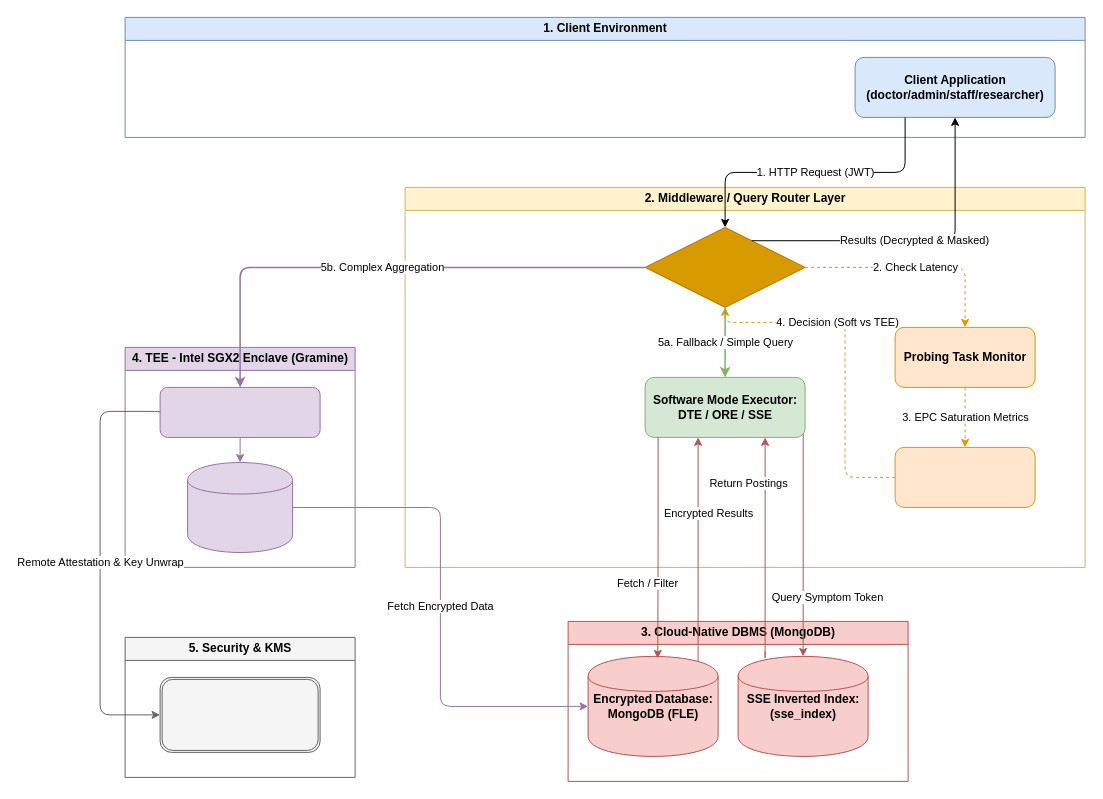
Image size: 1103x799. Some labels were removed from this diagram. Here are the shapes that lost their labels. From the top down, the centre of each, then its label:
At point (724, 266): "Tiered Query Router".
At point (239, 411): "Gramine LibOS".
At point (964, 476): "Cost Model Engine".
At point (240, 507): "DuckDB Analytics Engine".
At point (239, 714): "HashiCorp Vault (KMS / Keys)".
